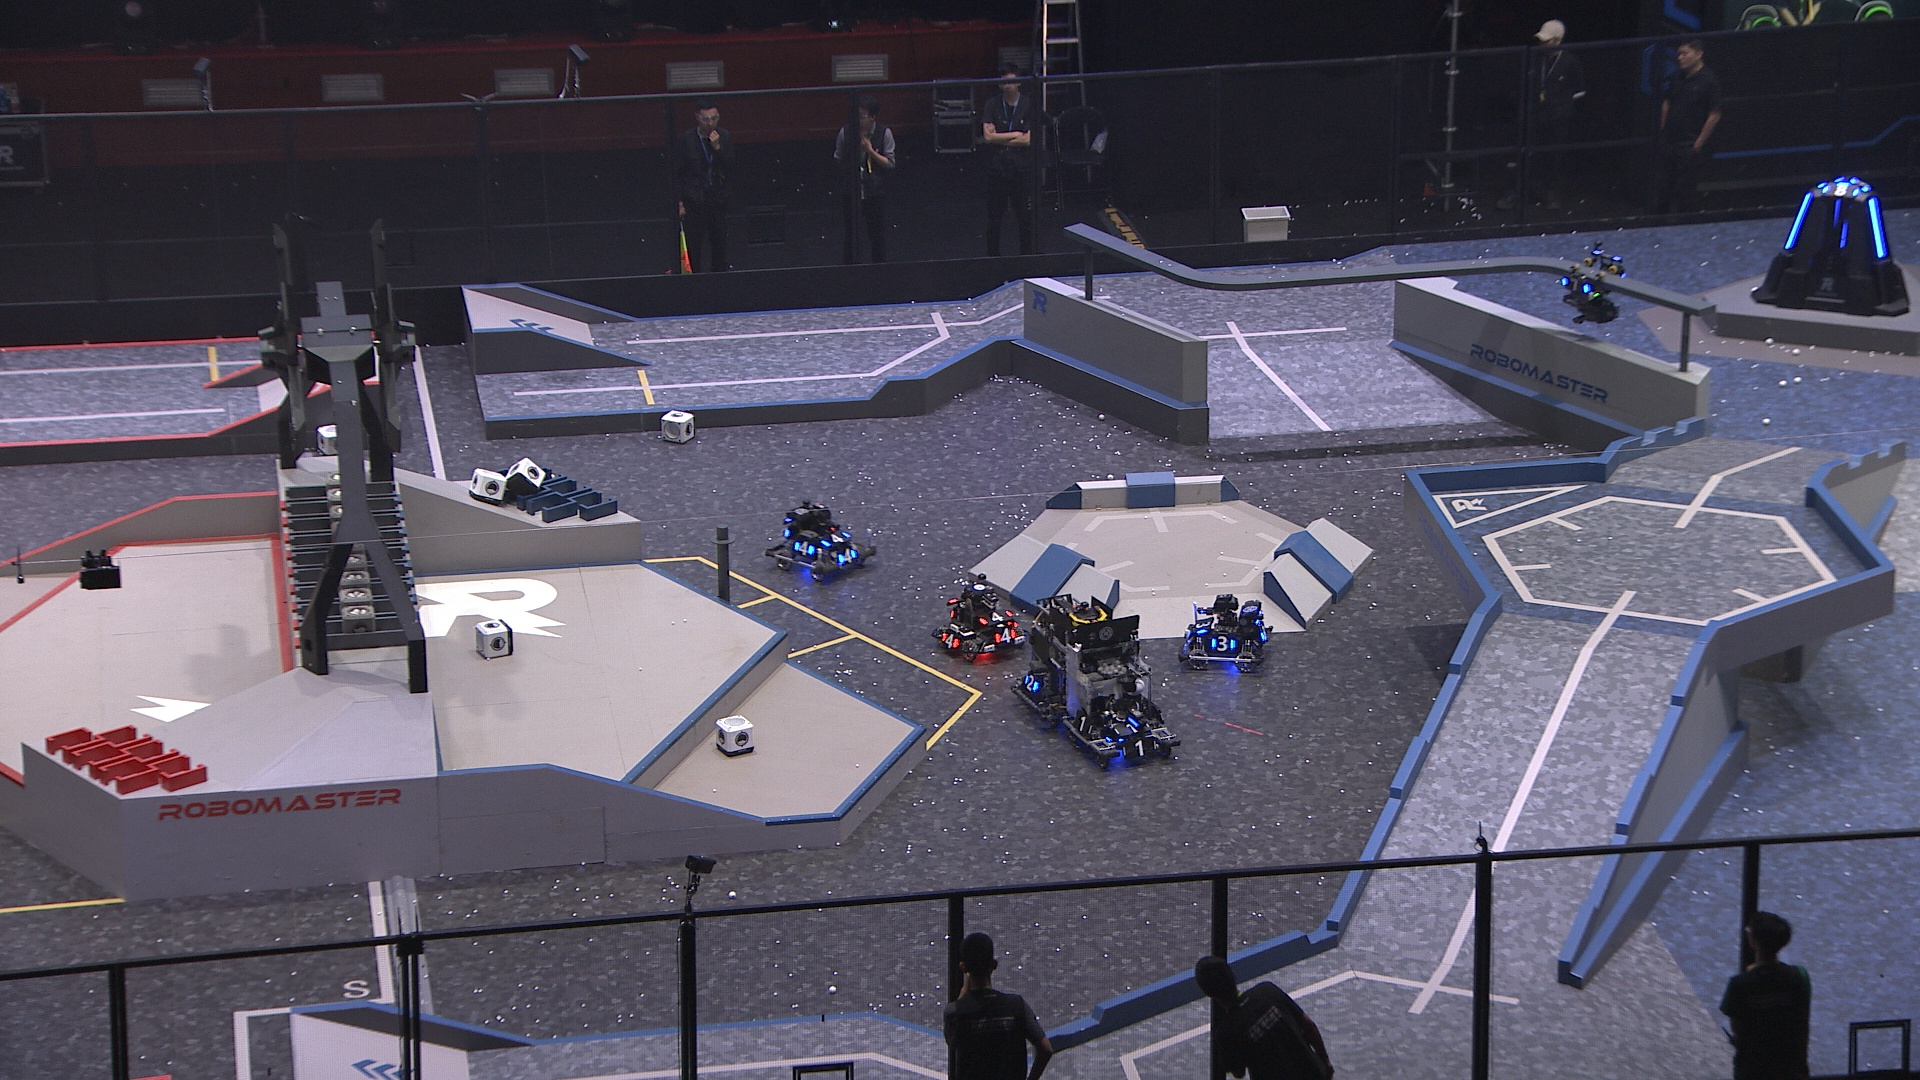armor: (1783, 193, 1812, 252), (1866, 196, 1890, 258), (1121, 740, 1162, 760), (1822, 177, 1861, 196), (1114, 719, 1150, 737), (978, 608, 1013, 626), (1069, 712, 1095, 737), (1557, 276, 1589, 295), (823, 527, 851, 547), (1832, 196, 1844, 237), (938, 629, 957, 650), (1211, 636, 1237, 651), (1192, 616, 1211, 638), (993, 629, 1021, 644), (835, 549, 858, 564), (1022, 675, 1040, 694), (793, 541, 814, 556), (1259, 622, 1271, 642)
base: (1750, 173, 1915, 318)
car: (1060, 607, 1185, 764), (1010, 589, 1120, 731), (764, 500, 874, 580), (932, 574, 1027, 665), (1178, 589, 1275, 671)
watcher: (1555, 244, 1629, 324)
